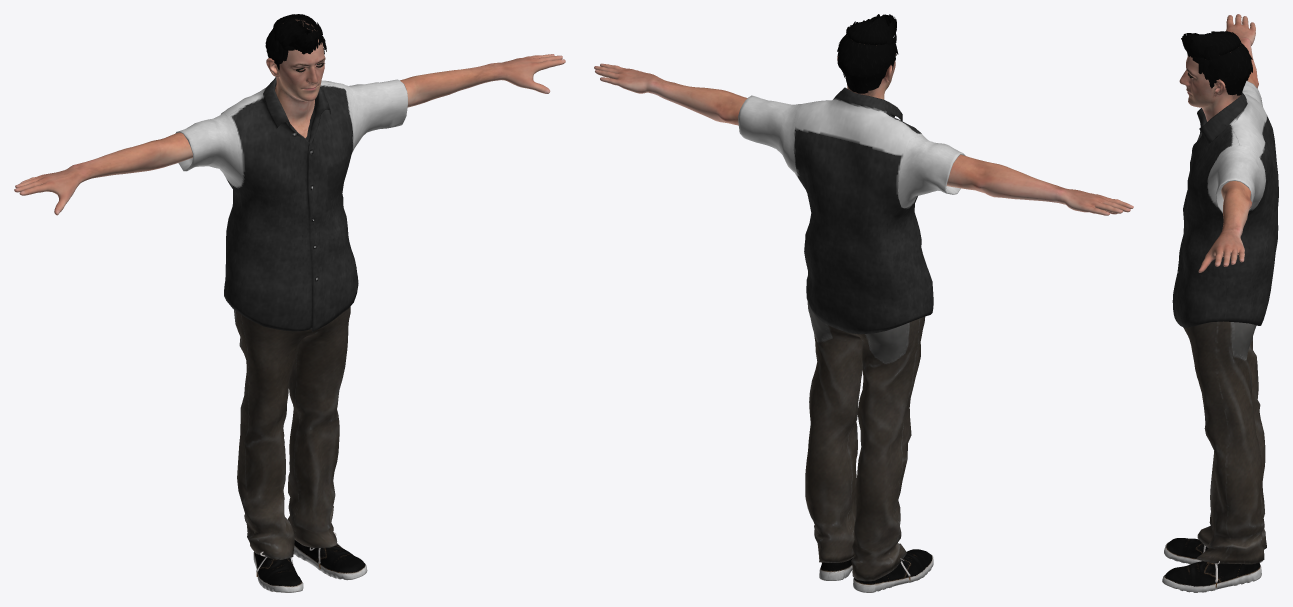
The model's file is Vinny.obj.
3 renders of one model, left to right at view 1: azimuth 30°, elevation 25°; view 2: azimuth 150°, elevation 25°; view 3: azimuth 270°, elevation 25°, orthographic. The views are drawn at different scales.
Parts seen in each view (by area): view 1: Tops, Bottoms, Body, Shoes, Hair; view 2: Tops, Bottoms, Body, Hair, Shoes; view 3: Tops, Bottoms, Body, Shoes, Hair.
Boxes of the visible parts, <box> form: Tops: <box>175,77,407,331</box>; Bottoms: <box>234,306,350,559</box>; Body: <box>14,19,565,215</box>; Shoes: <box>253,532,367,592</box>; Hair: <box>265,14,326,70</box>; Tops: <box>738,87,965,334</box>; Bottoms: <box>805,301,925,581</box>; Body: <box>594,35,1133,215</box>; Hair: <box>837,14,898,93</box>; Shoes: <box>819,549,933,592</box>; Tops: <box>1172,81,1278,327</box>; Bottoms: <box>1183,321,1266,564</box>; Body: <box>1179,14,1258,272</box>; Shoes: <box>1162,538,1262,592</box>; Hair: <box>1181,31,1252,95</box>.
Bounding box in the file's own units: 193 × 188 × 37.08.
Materials: 1 (1 with a texture image).
